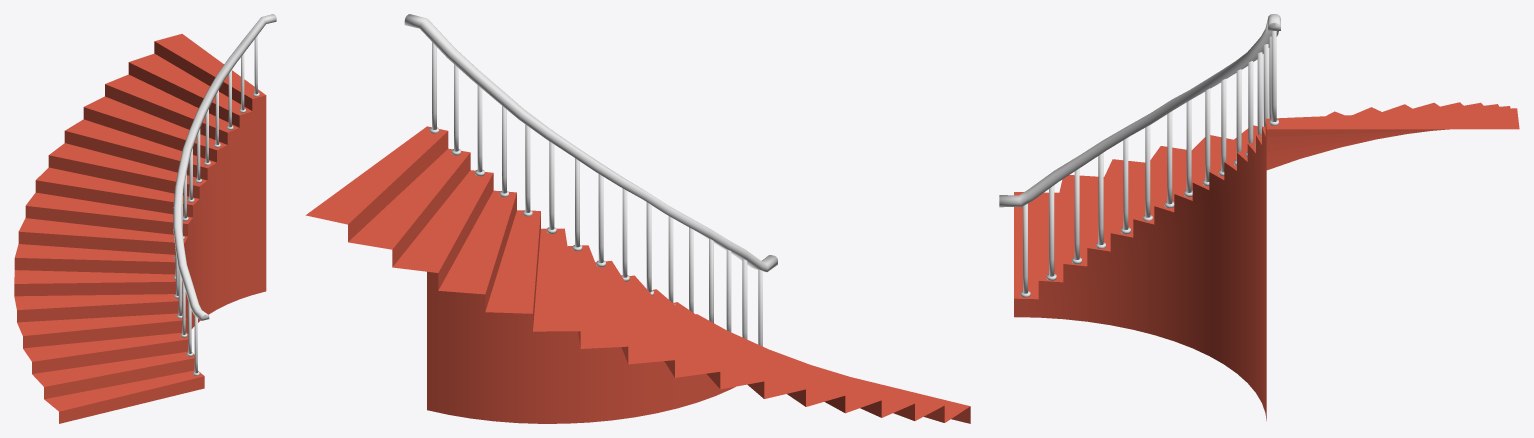
File: spiralstairs_model.fbx
3 views of the same model, side by side, from view 1: azimuth 30°, elevation 25°; view 2: azimuth 150°, elevation 25°; view 3: azimuth 270°, elevation 25° (orthographic). The views are drawn at different scales.
Visible parts, largest first — view 1: Arc; view 2: Arc; view 3: Arc.
Part boxes in pixels (x1,y1,x2,y2): Arc: (14, 14, 276, 423); Arc: (305, 14, 970, 423); Arc: (999, 14, 1519, 420).
Size of the model in its own units: 4.13 by 3.55 by 4.09.
